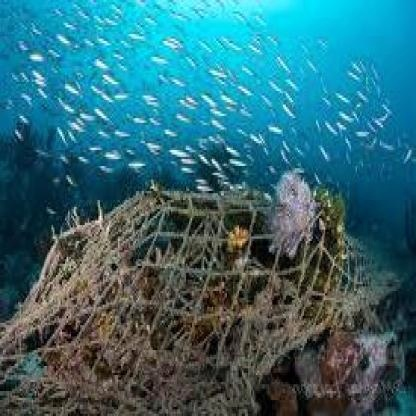net: (2, 202, 381, 416)
